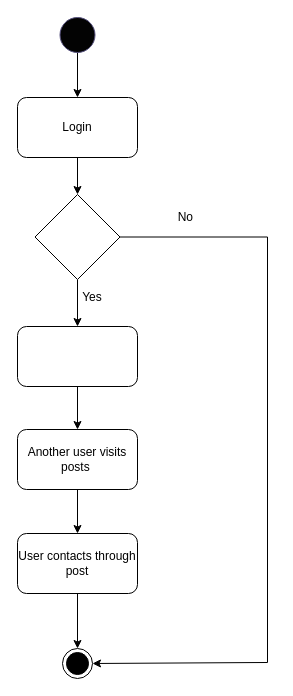
Some shapes in this 293 by 696 pixel diagram are drawn without their labels. The shapes that lost their labels are listed below. From the top down, each one's centre as x and y in pixels, then its label:
pixel 77 237: Login Successful
pixel 77 356: Upload Details and Documents
